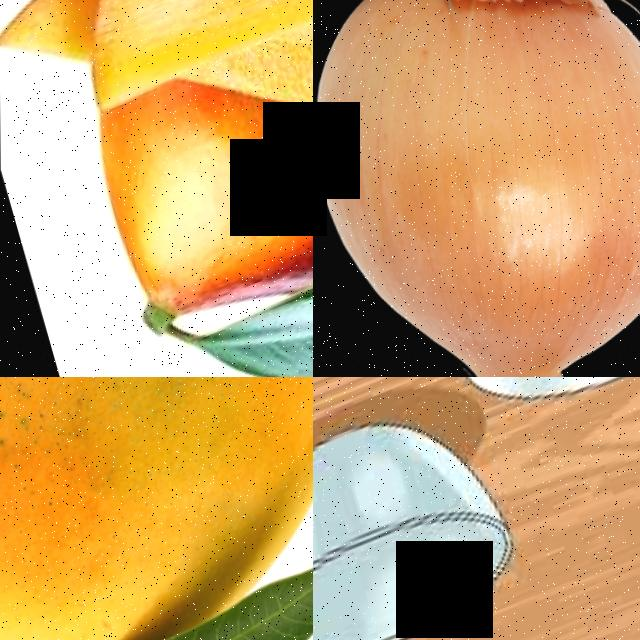mango: (29, 0, 313, 363), (0, 377, 313, 640)
onion: (313, 0, 640, 377)
